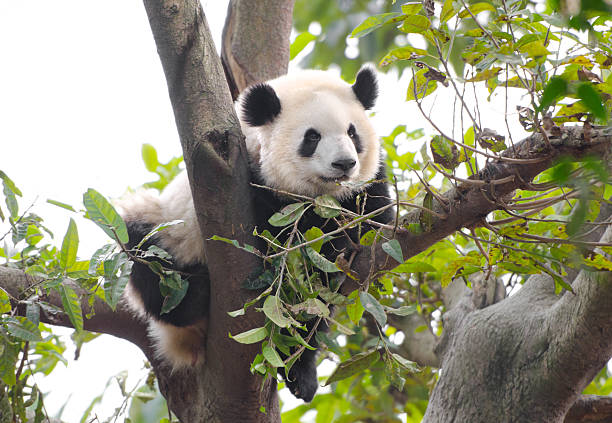panda: (205, 51, 422, 208)
